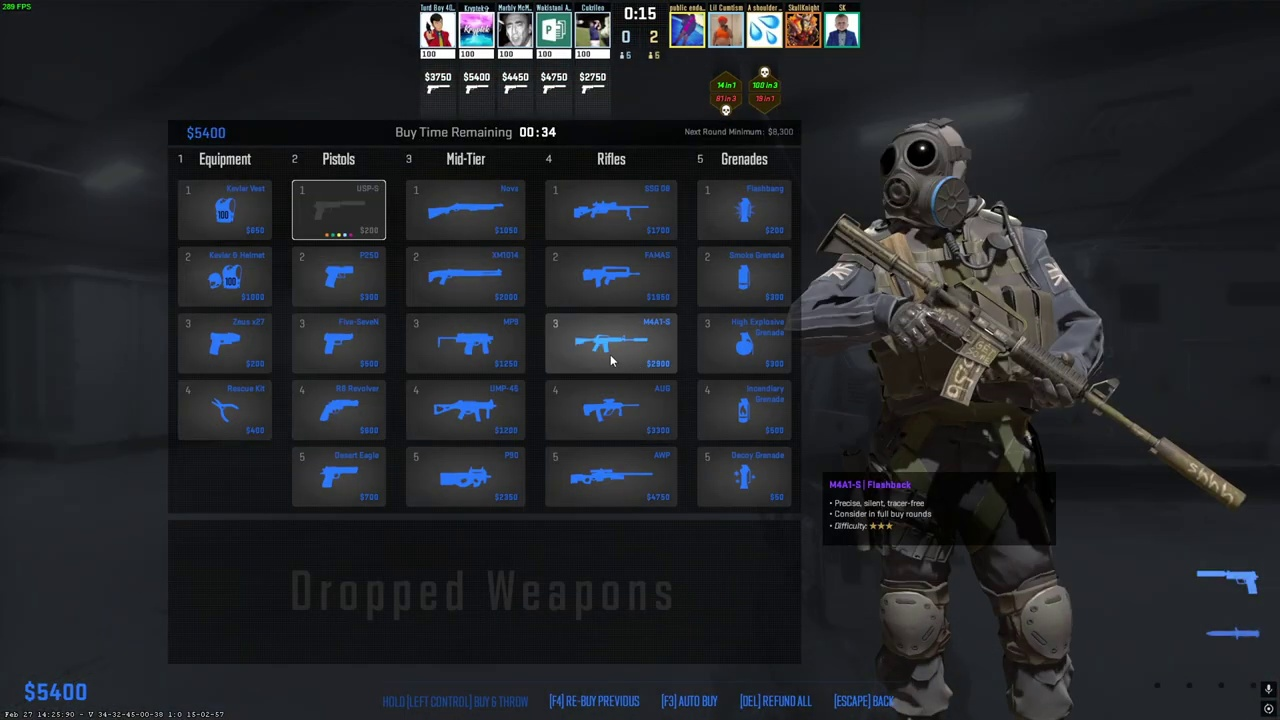CT: (850, 123, 1090, 720)
